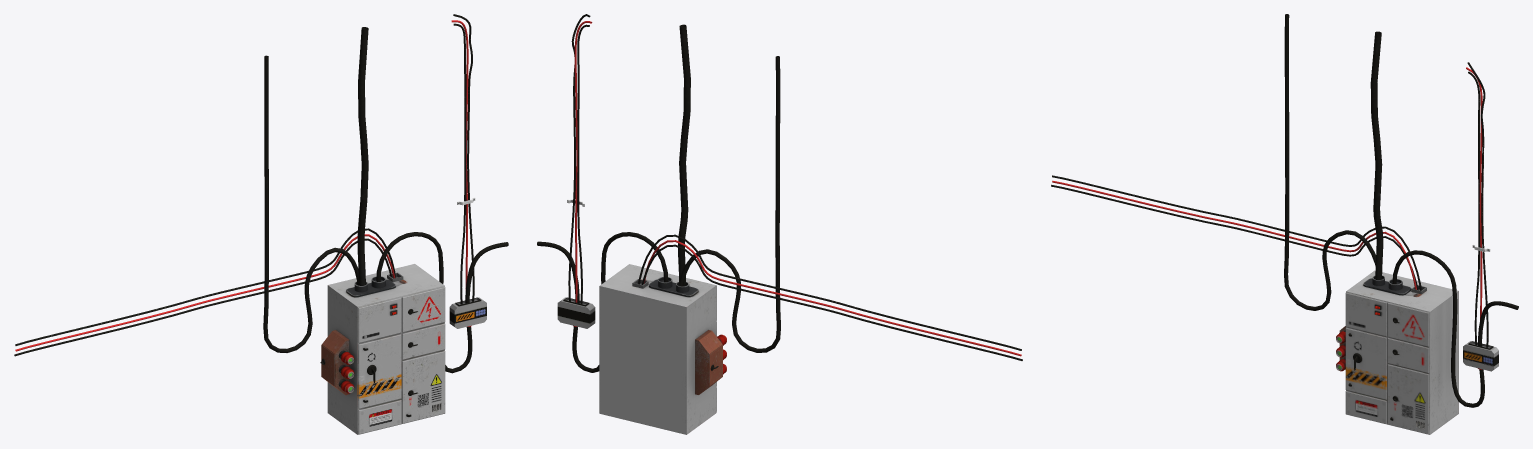
The model's file is elect board.fbx.
3 renders of one model, left to right at view 1: azimuth 30°, elevation 25°; view 2: azimuth 150°, elevation 25°; view 3: azimuth 330°, elevation 25°, orthographic. The views are drawn at different scales.
Visible parts, largest first — view 1: Electric_box_obj_cleaner_materialmerger_gles; view 2: Electric_box_obj_cleaner_materialmerger_gles; view 3: Electric_box_obj_cleaner_materialmerger_gles.
Part boxes in pixels (x1,y1,x2,y2): Electric_box_obj_cleaner_materialmerger_gles: (14, 14, 508, 434); Electric_box_obj_cleaner_materialmerger_gles: (537, 14, 1022, 434); Electric_box_obj_cleaner_materialmerger_gles: (1051, 14, 1518, 434).
Size of the model in its own units: 3.91 by 3 by 0.478.
9 materials, 9 textured.
